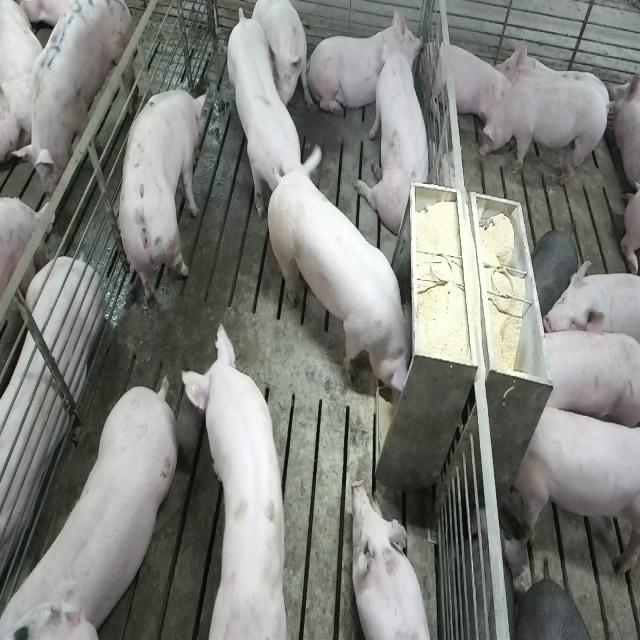Feeding: (270, 149, 422, 406)
Sitting: (362, 49, 433, 239), (253, 1, 308, 116)
Standing: (5, 376, 183, 636), (188, 314, 291, 635), (17, 0, 134, 201), (514, 398, 638, 578), (228, 8, 325, 219), (117, 86, 206, 315), (478, 80, 612, 189), (537, 327, 639, 433), (539, 257, 640, 355)
Sternal_lying: (0, 241, 100, 588), (350, 481, 432, 640), (310, 15, 420, 121), (428, 35, 508, 132)
